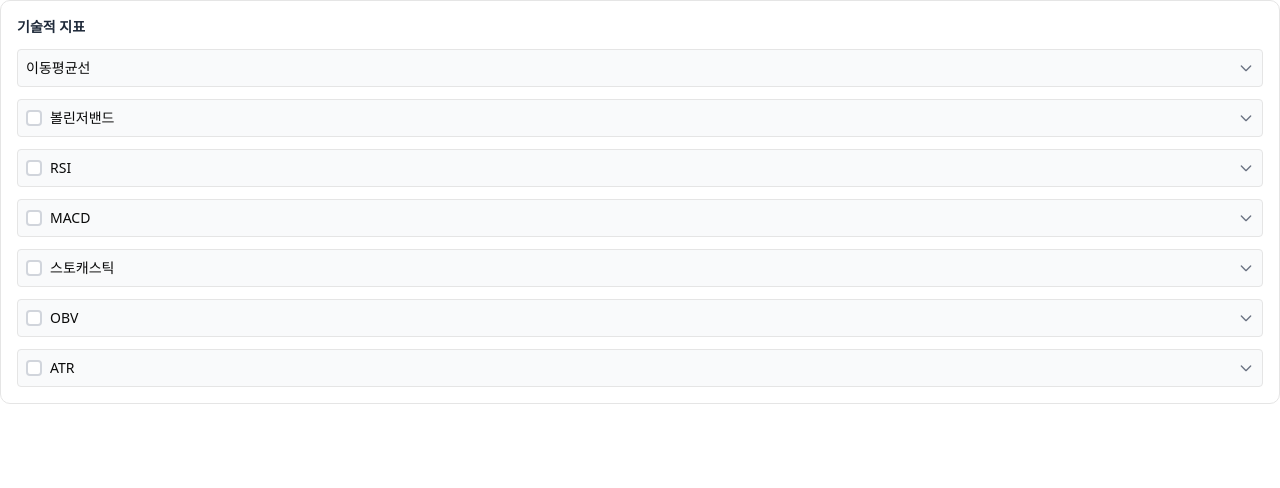
Test: IndicatorPanel › should expand settings when arrow clicked
The width and height of the screenshot is (1280, 488).
What coordinates should you click on to do the following:
click the button with test id "expand-bollinger"
I would click on:
 (1246, 118)
Its box is [1238, 110, 1254, 126].
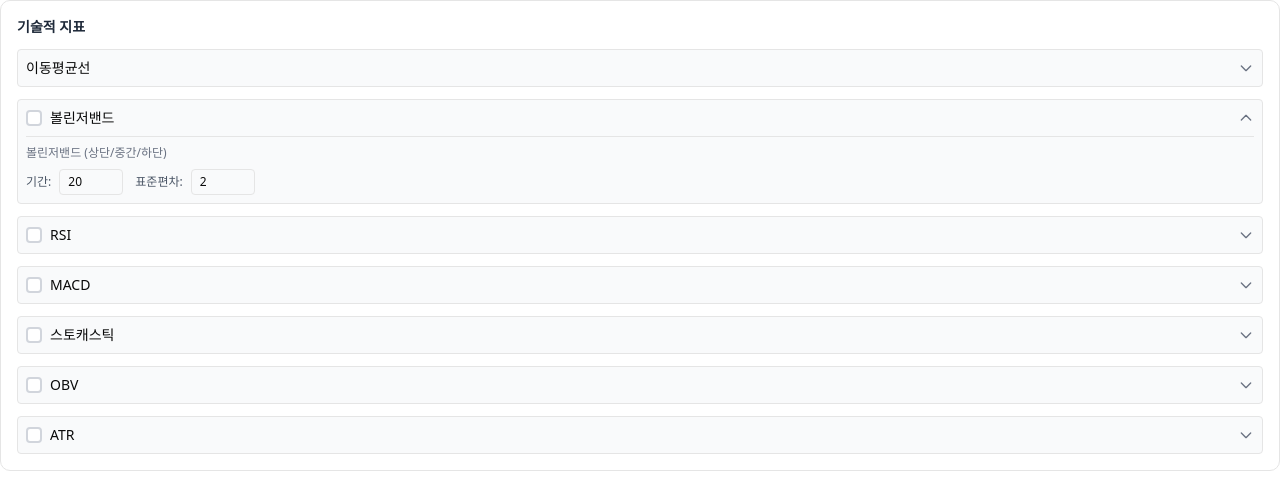
Now the text "볼린저밴드 (상단/중간/하단)" is shown, box [26, 144, 167, 161]
Now the text "기간:" is shown, box [26, 174, 51, 190]
